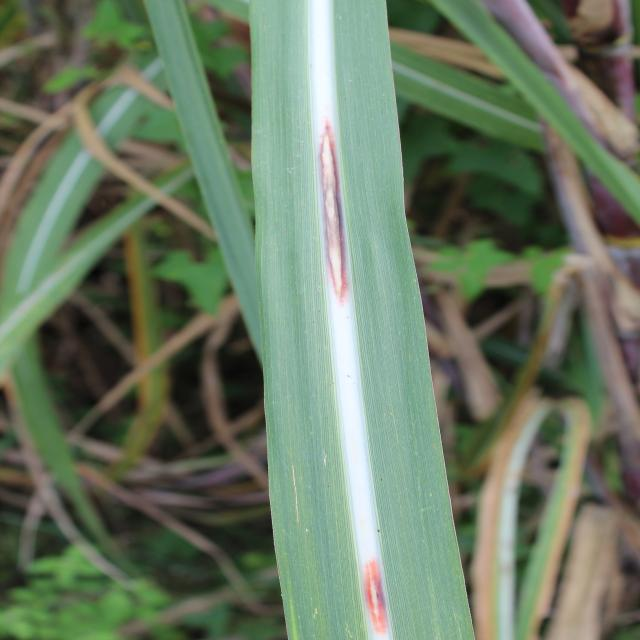Sugarcane: (245, 0, 480, 640)
